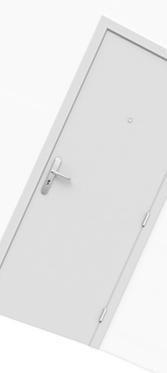door: (1, 19, 167, 341)
